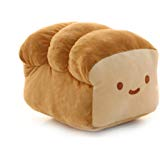slice of bread: (21, 21, 160, 140)
